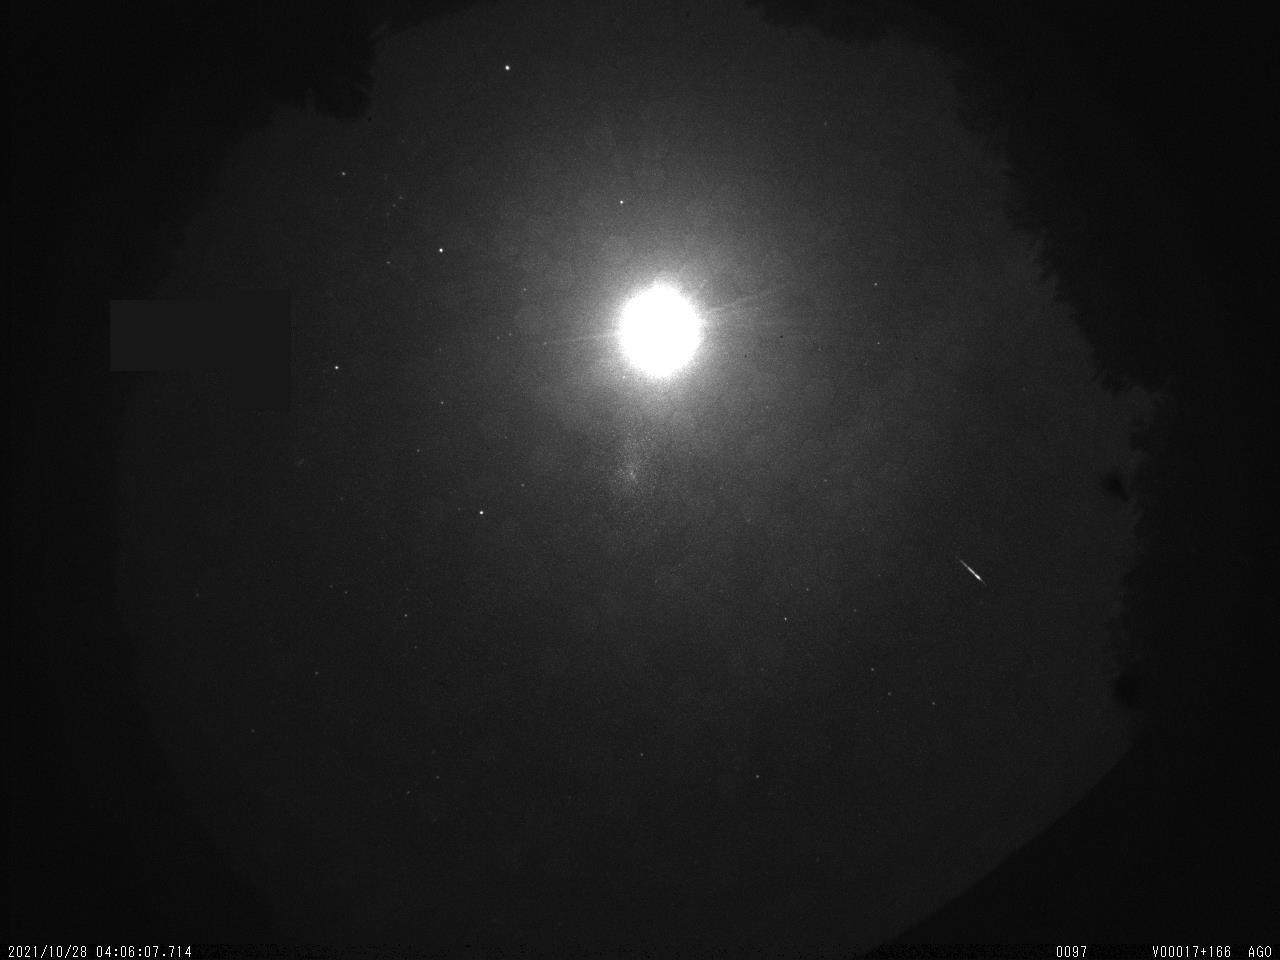meteor: (945, 545, 998, 601)
